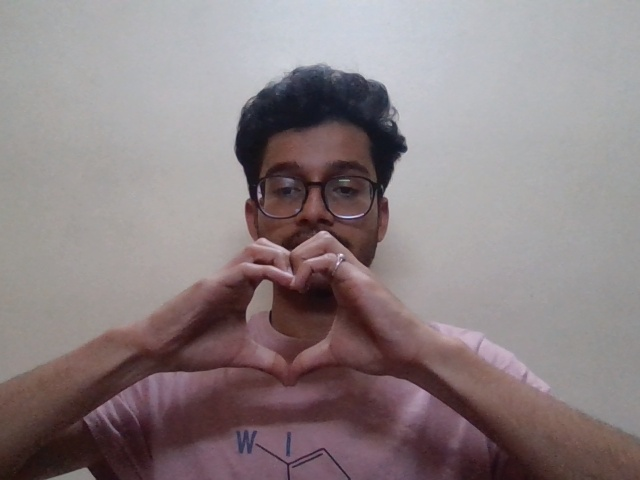silent-voice: (193, 230, 388, 394)
